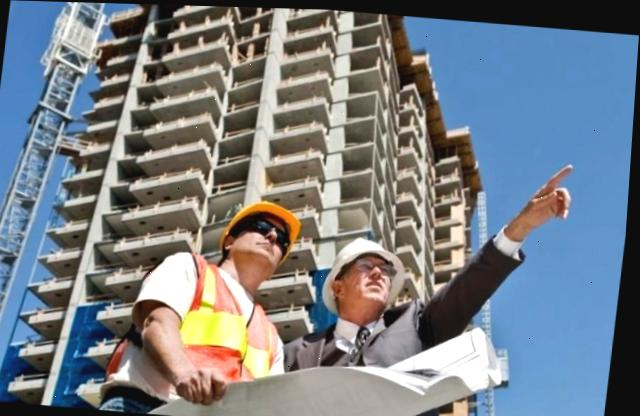helmet: (323, 235, 411, 313), (217, 192, 303, 269), (311, 200, 317, 205), (328, 227, 331, 236)
vest: (116, 243, 300, 410)
